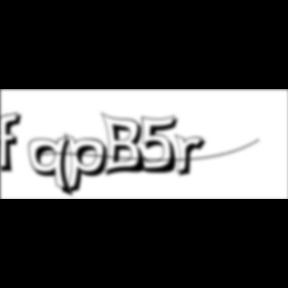5: (138, 114, 184, 176)
B: (101, 111, 151, 179)
f: (1, 111, 28, 175)
p: (64, 132, 114, 198)
q: (29, 135, 78, 200)
r: (175, 134, 213, 180)
